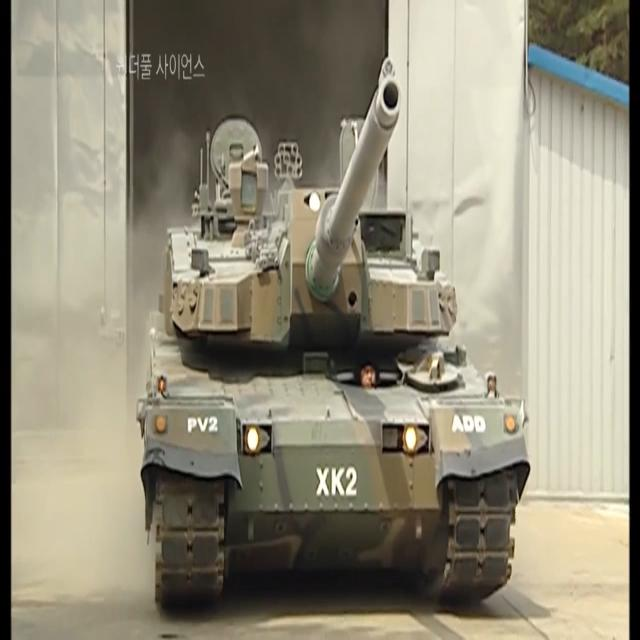korea tank: (136, 52, 532, 618)
